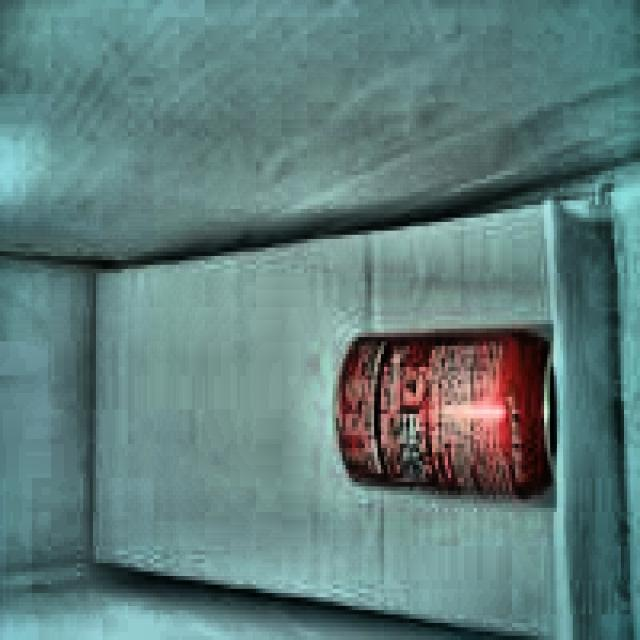Cans: (322, 308, 558, 512)
